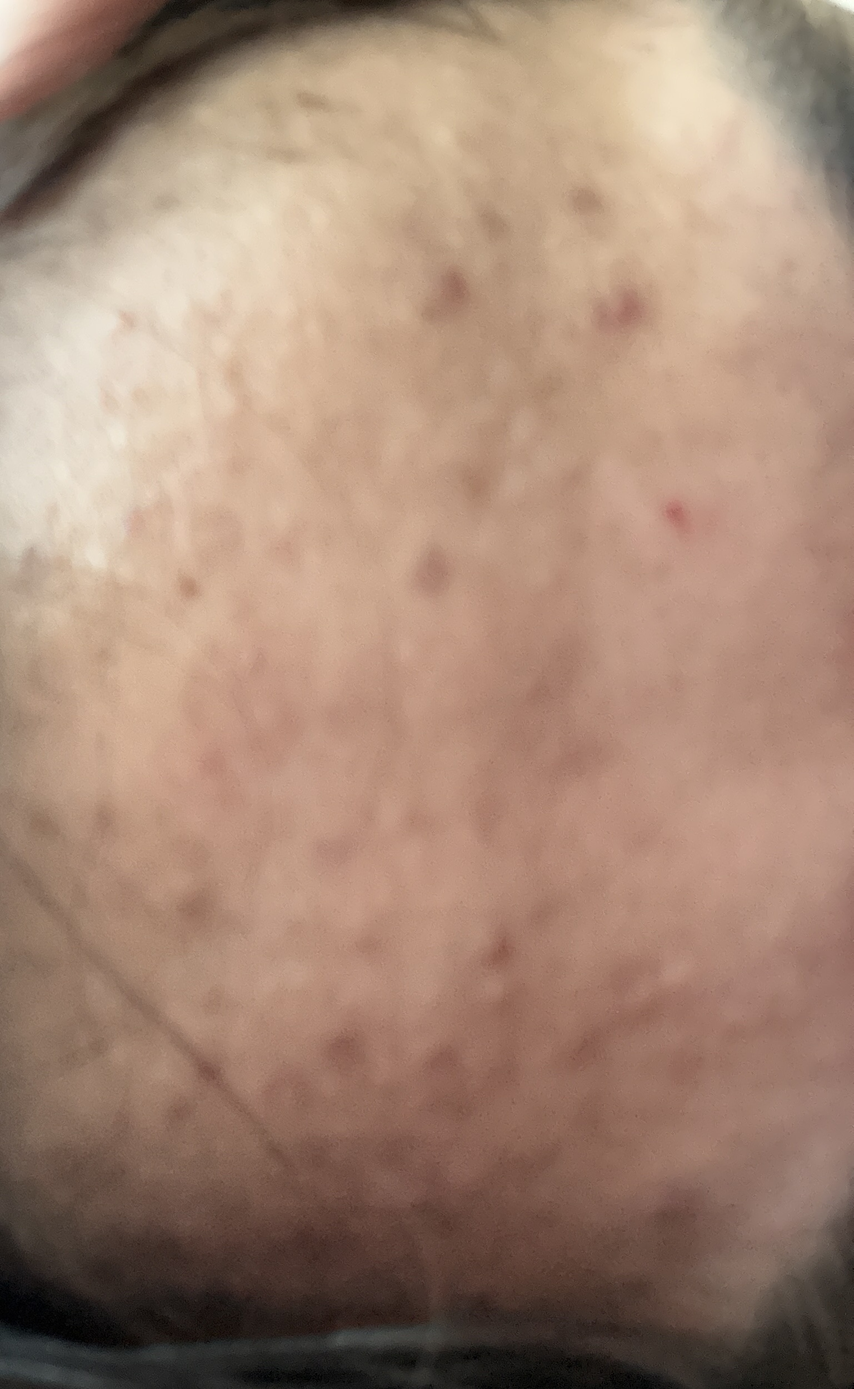papule: (436, 899, 567, 1034), (581, 252, 666, 358), (384, 539, 489, 624), (416, 250, 471, 344)
